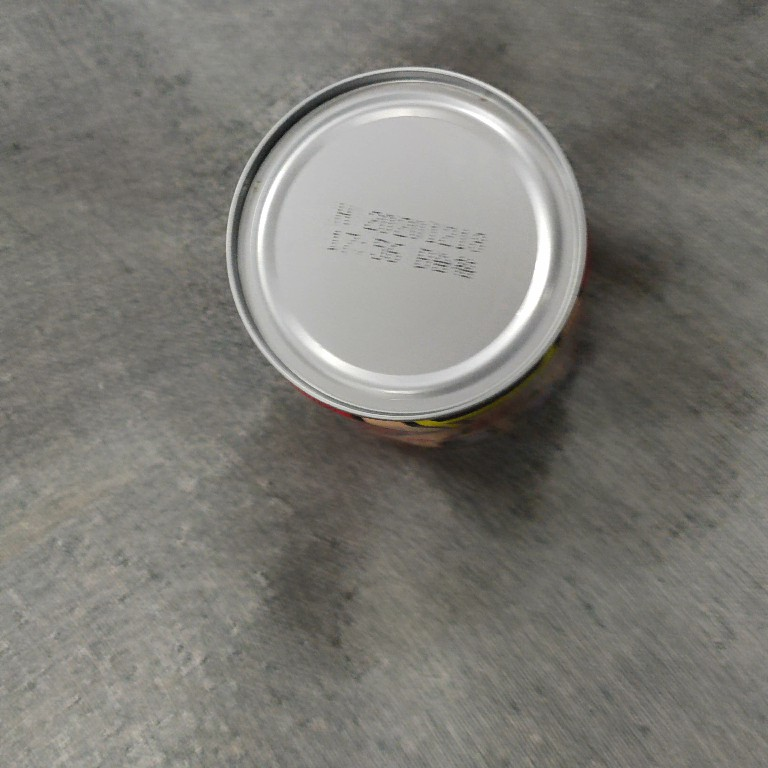can: (221, 63, 596, 457)
